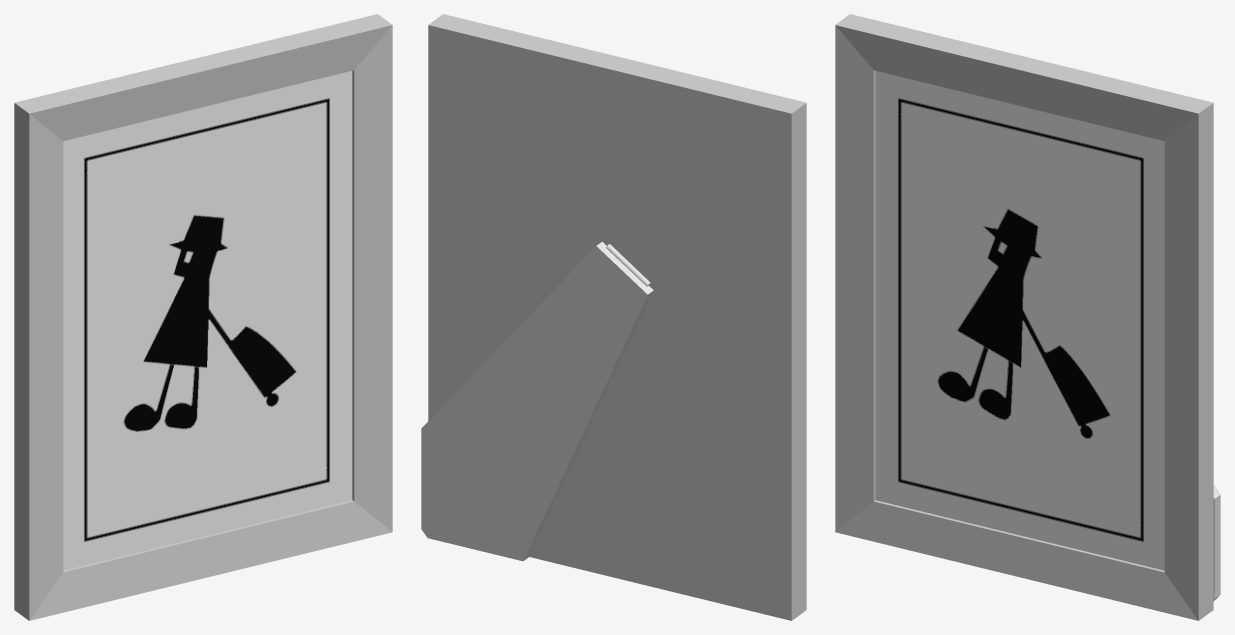
Rendered from photo_frame.fbx.
The picture shows the model from 3 angles, left to right: view 1: azimuth 30°, elevation 25°; view 2: azimuth 150°, elevation 25°; view 3: azimuth 330°, elevation 25°; orthographic projection.
Parts seen in each view (by area): view 1: Obj_Photo, Obj_PhotoFrame; view 2: Obj_PhotoFrame, Obj_PhotoFrame.001; view 3: Obj_Photo, Obj_PhotoFrame, Obj_PhotoFrame.001.
Part boxes in pixels (<box>): Obj_Photo: <box>63,71,352,570</box>; Obj_PhotoFrame: <box>14,14,392,620</box>; Obj_PhotoFrame: <box>428,14,806,620</box>; Obj_PhotoFrame.001: <box>421,241,653,561</box>; Obj_Photo: <box>875,71,1164,570</box>; Obj_PhotoFrame: <box>835,14,1213,620</box>; Obj_PhotoFrame.001: <box>1213,484,1220,600</box>.
Size of the model in its own units: 15 by 20 by 1.63.
